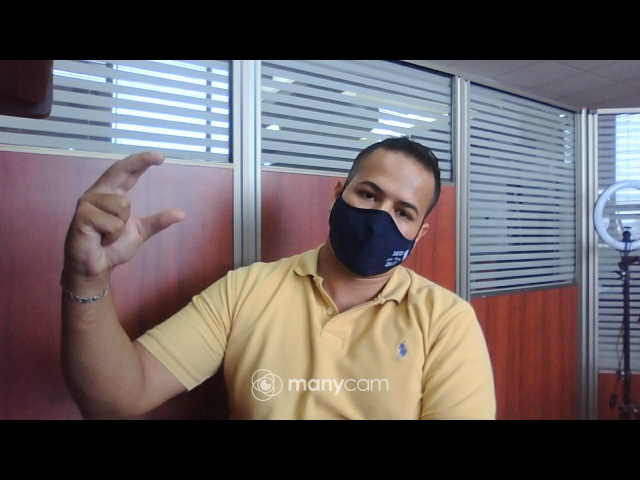No: (59, 150, 190, 280)
